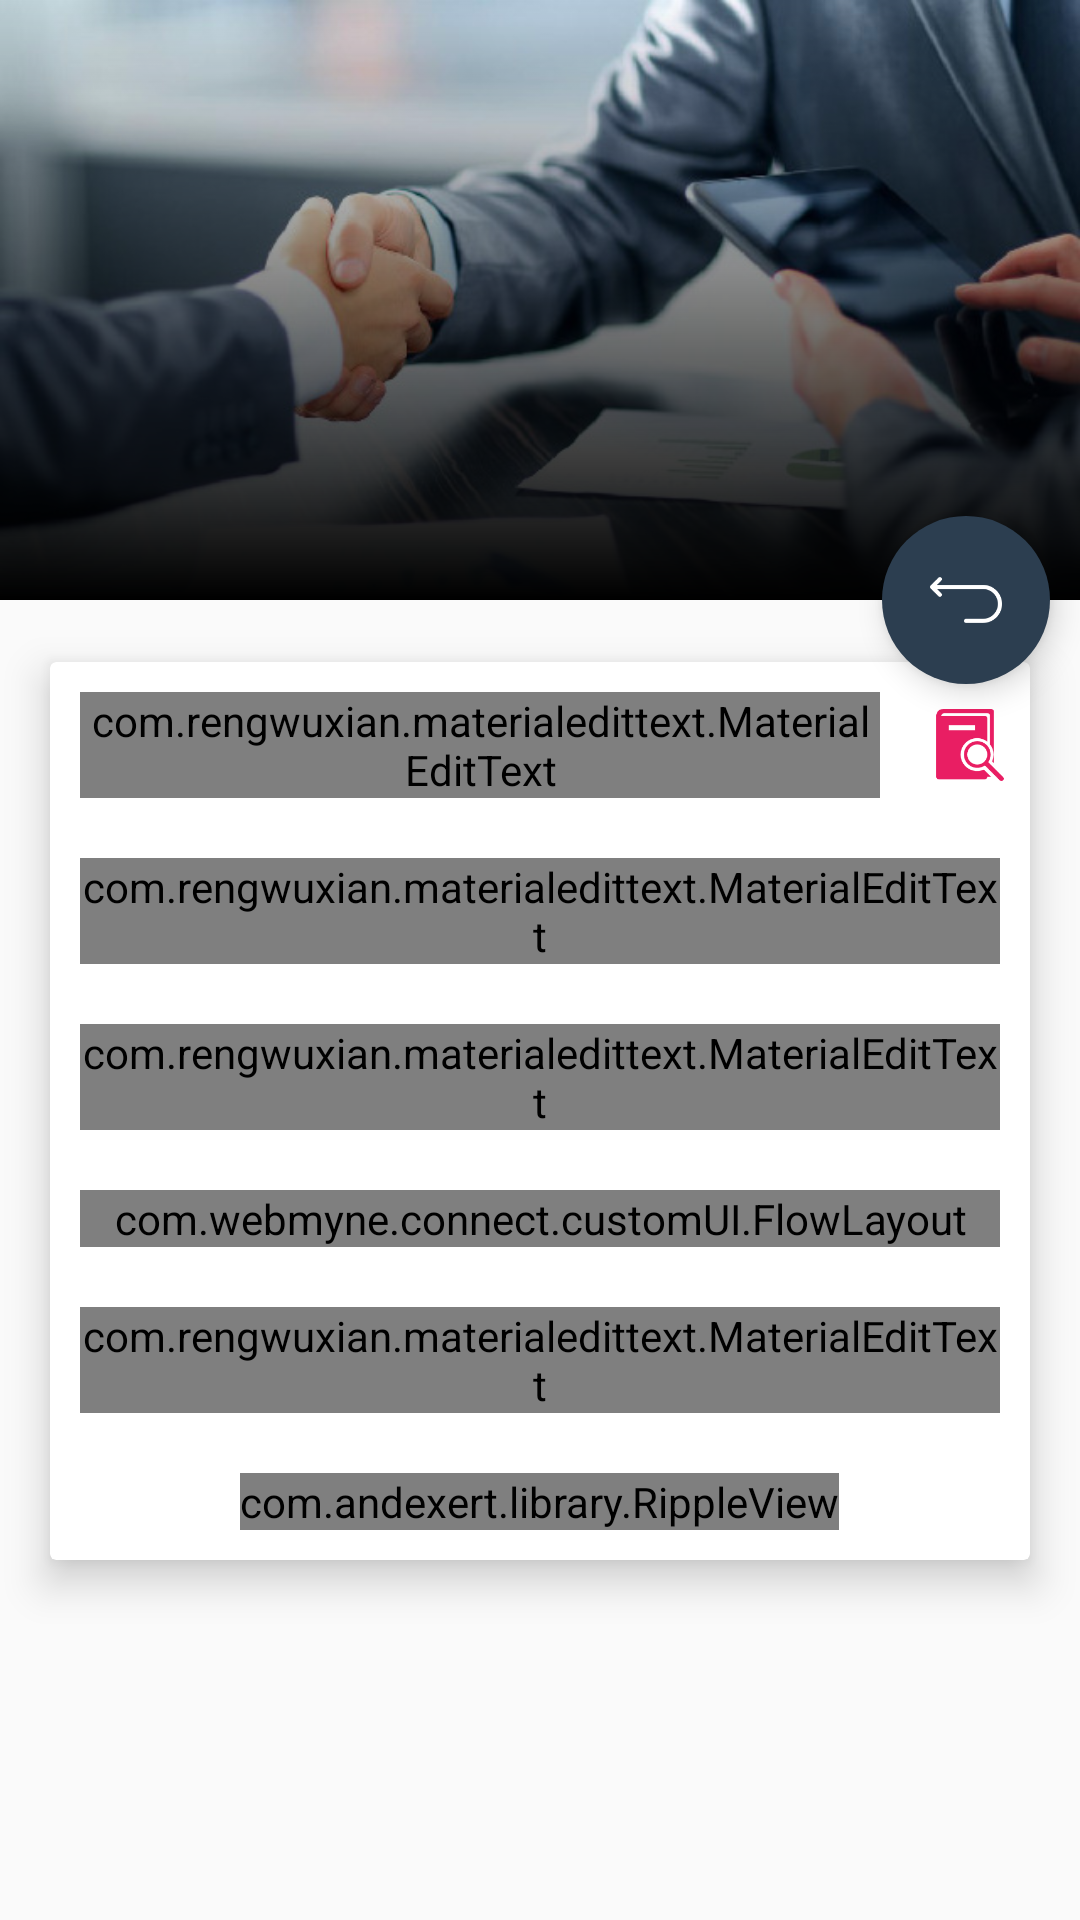

Named icons in this screenshot (1080w x 1920h) and their centers, point (x, y):
search contact: point (970, 745)
undo arrow: point (966, 600)
